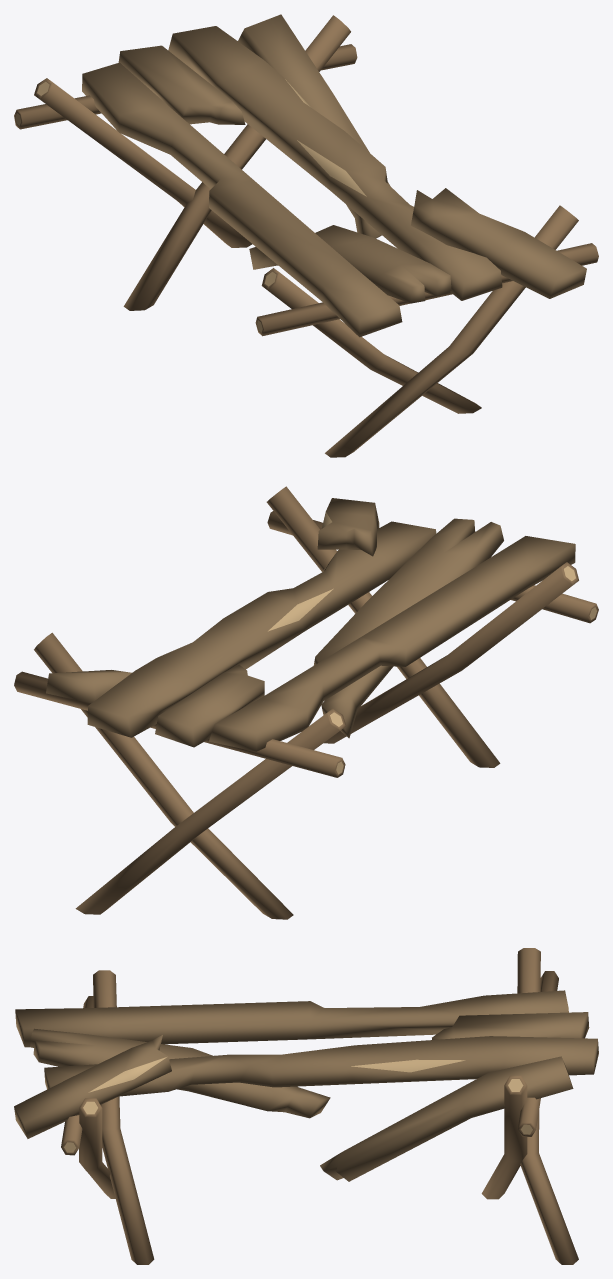
File: rpgpp_av_table_01a.gltf
3 renders of one model, top to bottom at view 1: azimuth 30°, elevation 25°; view 2: azimuth 150°, elevation 25°; view 3: azimuth 270°, elevation 25°, orthographic. The views are drawn at different scales.
Visible parts, largest first — view 1: rpgpp_av_table_01a; view 2: rpgpp_av_table_01a; view 3: rpgpp_av_table_01a.
Part boxes in pixels (bbox=[...]): rpgpp_av_table_01a: bbox=[14, 14, 598, 457]; rpgpp_av_table_01a: bbox=[14, 486, 598, 919]; rpgpp_av_table_01a: bbox=[14, 948, 598, 1264].
Bounding box in the file's own units: 0.0131 × 0.00879 × 0.0217.
1 material, 1 textured.
